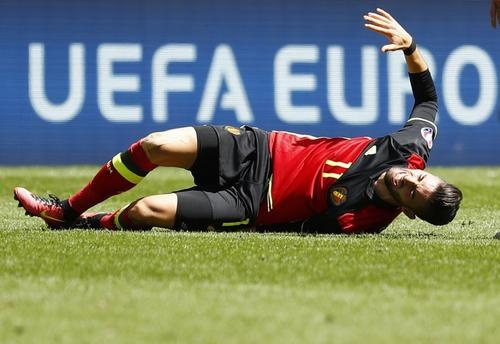falling: (23, 15, 464, 225)
